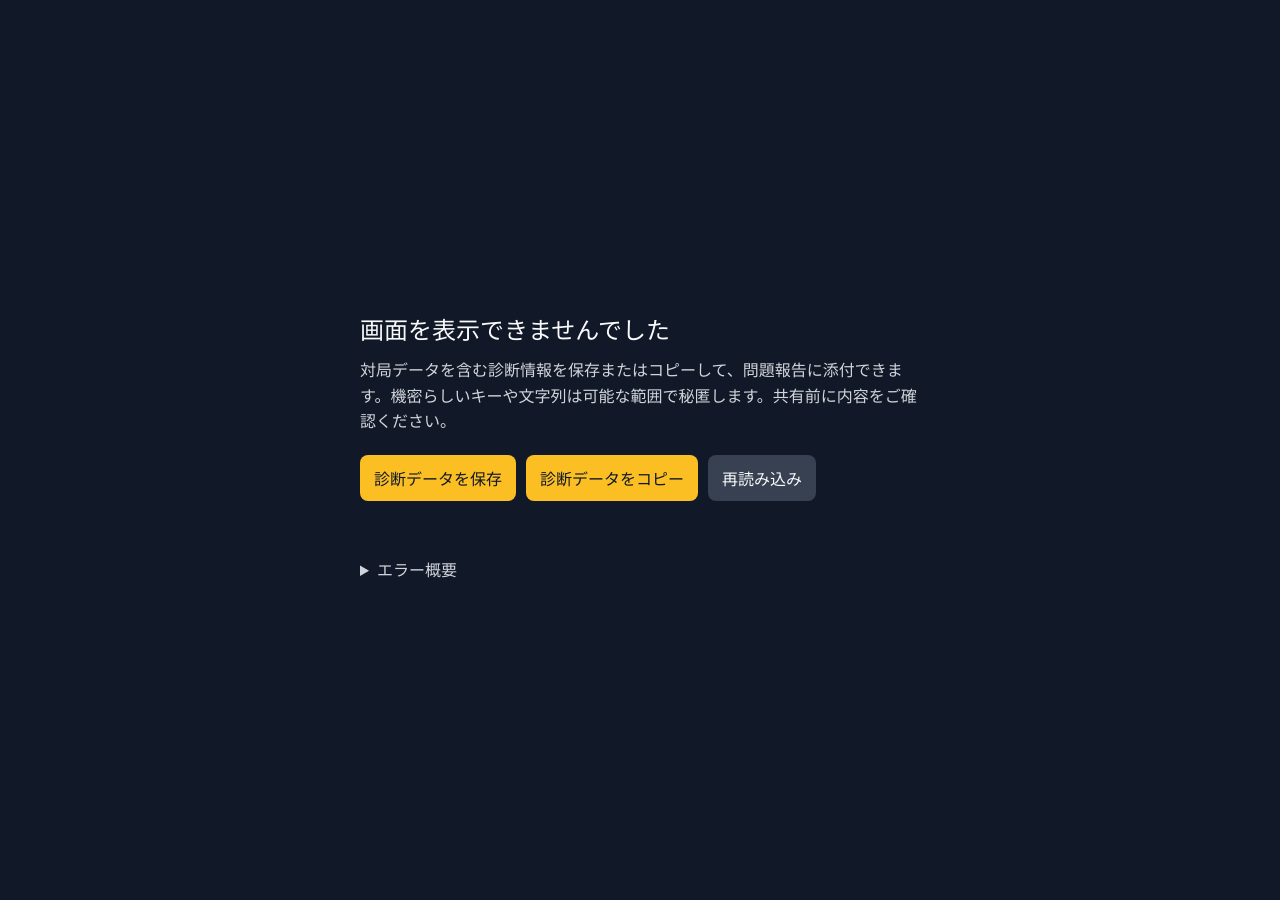
Test: DiagnosticErrorBoundary › catches a real descendant render error and keeps the fallback available when exports fail
Expected: the message shows "画面を表示できませんでした", [360, 313, 670, 346]
Click the button "診断データを保存" at {"x": 438, "y": 478}, box [360, 455, 516, 501]
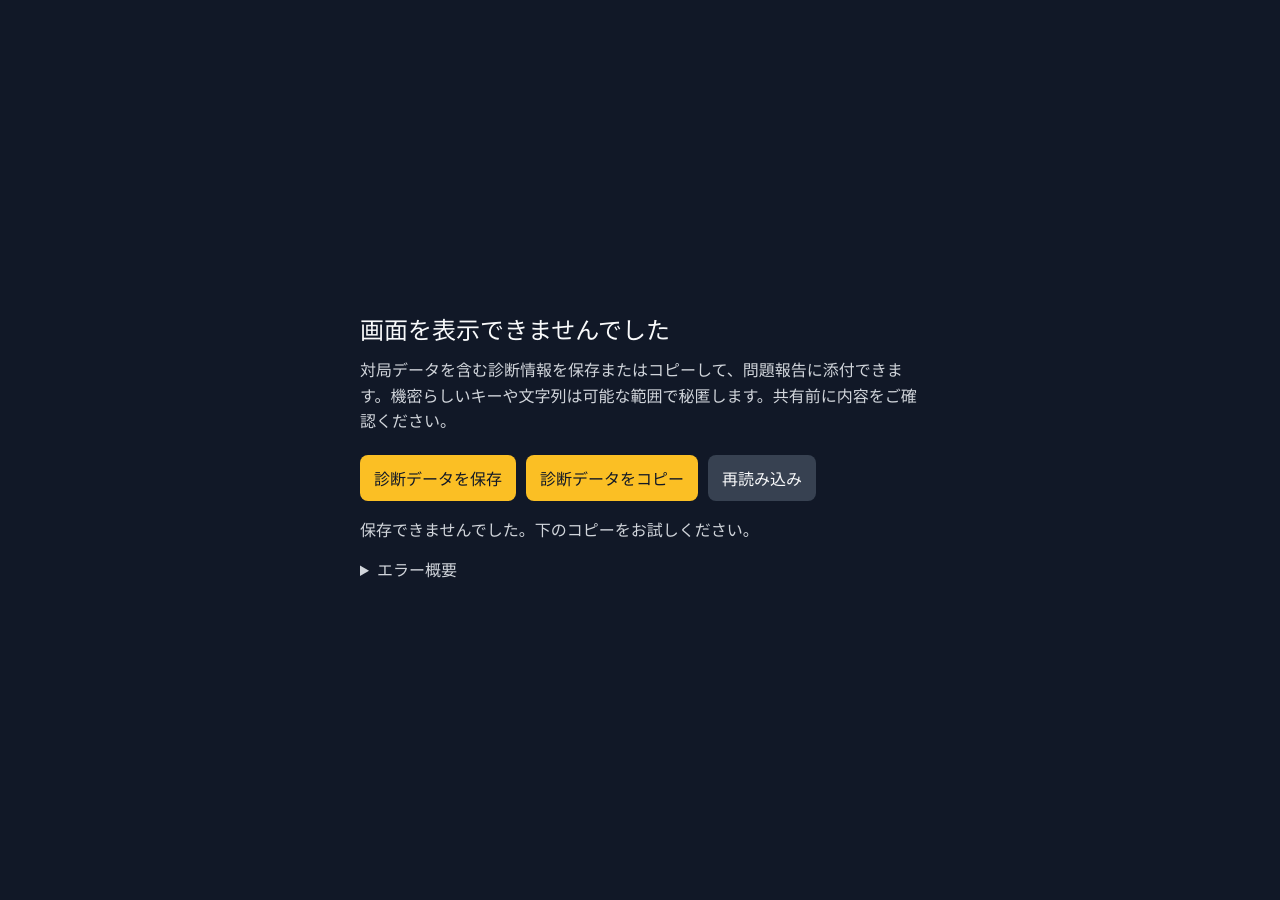
Expected: the text "保存できませんでした" is shown, [360, 519, 759, 541]
Click the button "診断データをコピー" at {"x": 612, "y": 478}, box [526, 455, 698, 501]
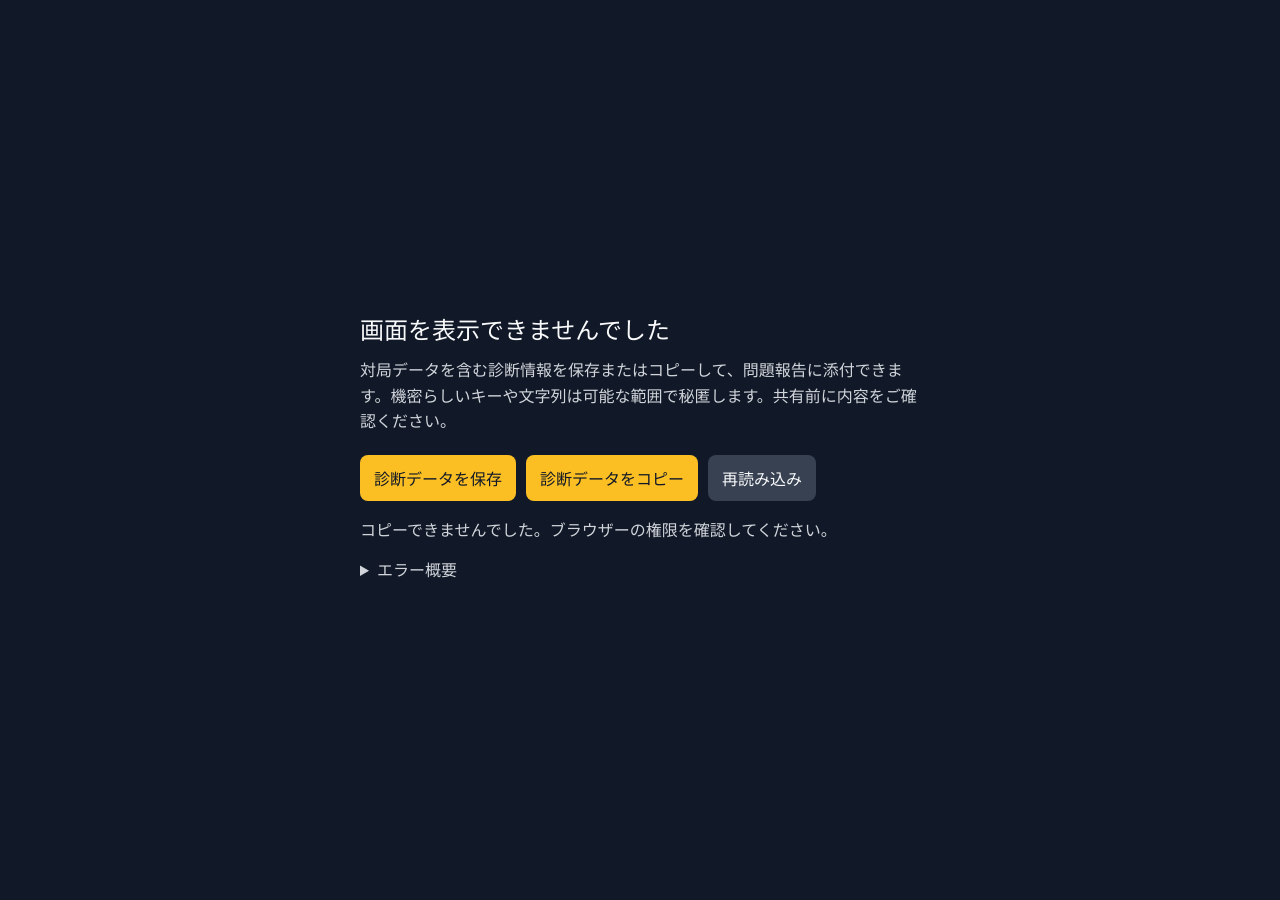
Expected: the text "コピーできませんでした" is shown, [360, 519, 837, 541]
